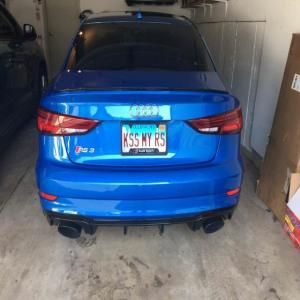Plate: (123, 124, 167, 157)
